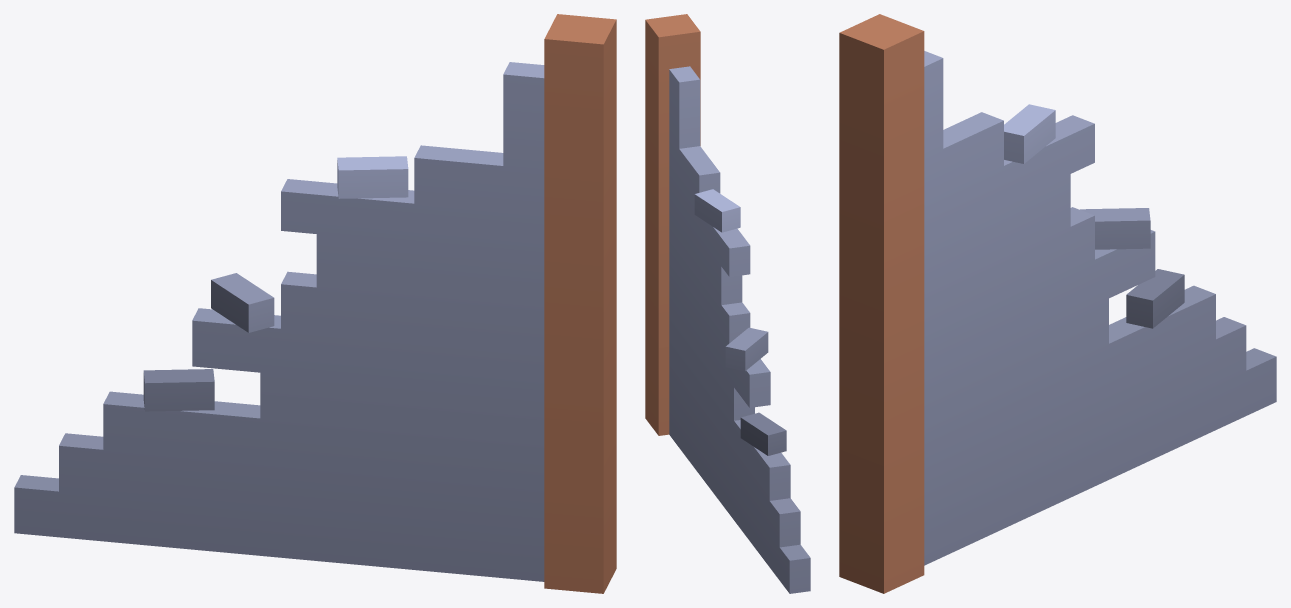
File: wall-broken.002_lev1.glb
3 views of the same model, side by side, from view 1: azimuth 30°, elevation 25°; view 2: azimuth 150°, elevation 25°; view 3: azimuth 270°, elevation 25° (orthographic). The views are drawn at different scales.
Parts seen in each view (by area): view 1: wall-broken.002_lev1; view 2: wall-broken.002_lev1; view 3: wall-broken.002_lev1.
Part boxes in pixels (x1=…): wall-broken.002_lev1: x1=14, y1=14, x2=616, y2=593; wall-broken.002_lev1: x1=645, y1=14, x2=810, y2=593; wall-broken.002_lev1: x1=839, y1=14, x2=1276, y2=593.
Bounding box in the file's own units: 3.27 × 4.14 × 3.02.
Materials: 1 (1 with a texture image).
